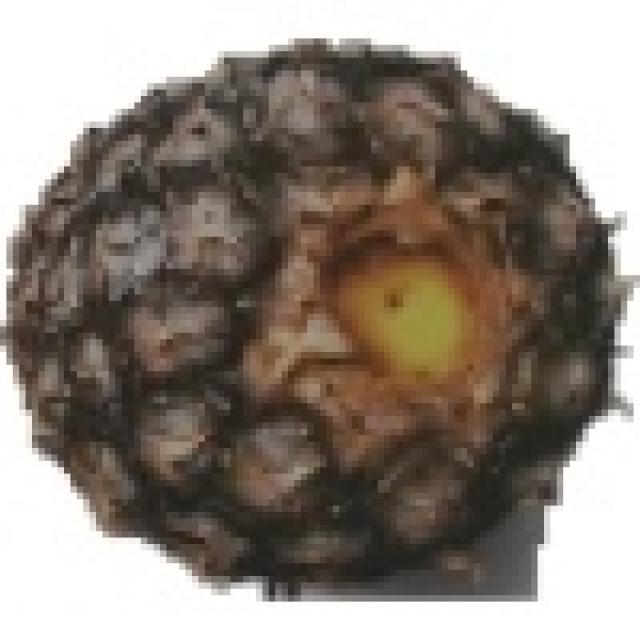pineapple: (0, 32, 608, 582)
